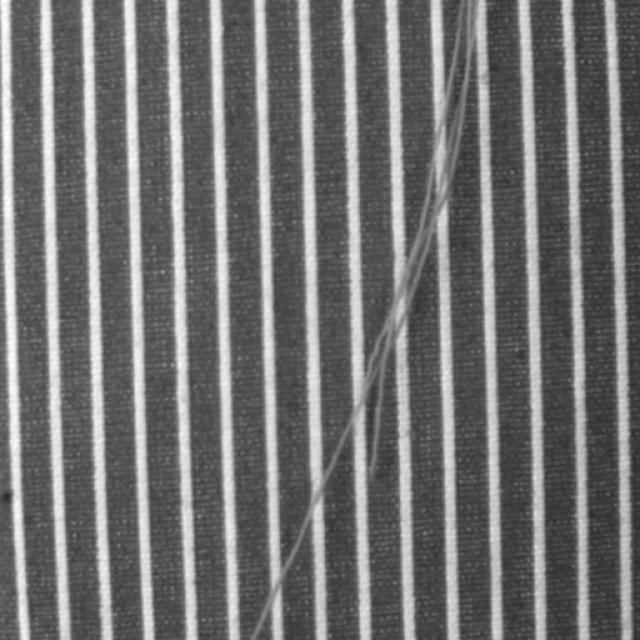Foreign-Body-Defect: (250, 0, 478, 639)
